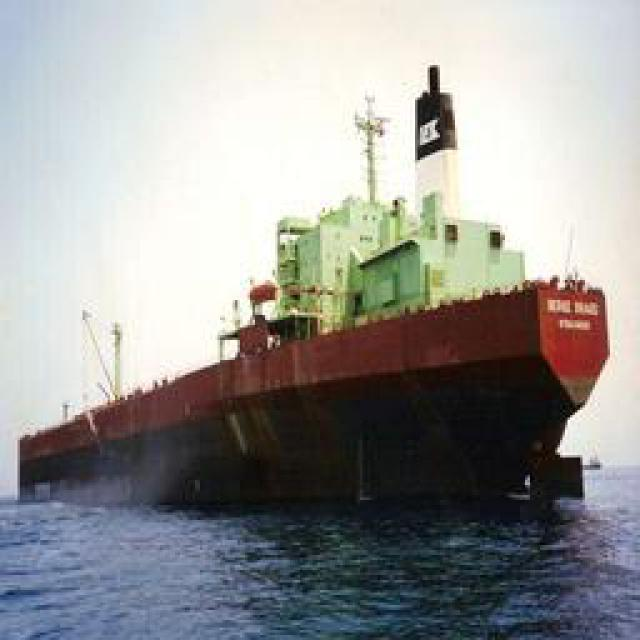Ship: (10, 54, 632, 533)
